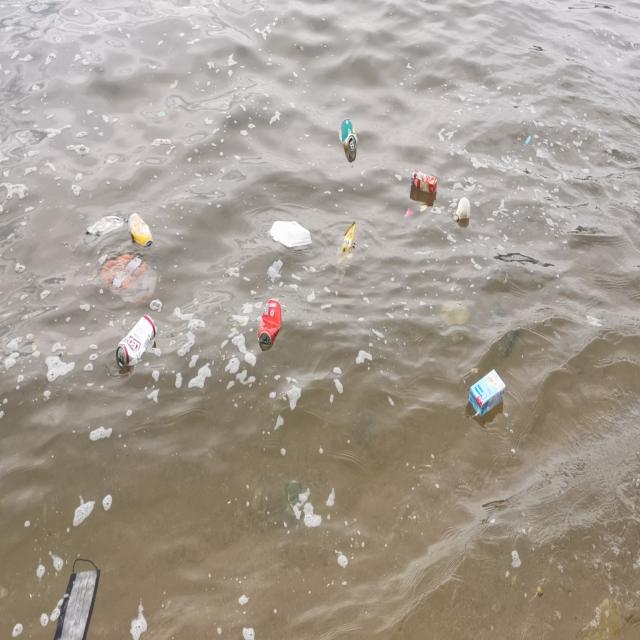can: (116, 315, 155, 368), (259, 300, 280, 347), (128, 210, 153, 246), (286, 479, 302, 520), (339, 120, 356, 154)
foam: (271, 220, 312, 248)
plastic bottle: (338, 220, 357, 265)
unknow: (55, 554, 99, 640), (103, 255, 158, 301), (468, 368, 505, 417), (81, 214, 124, 244), (412, 170, 438, 193), (453, 198, 471, 221)
